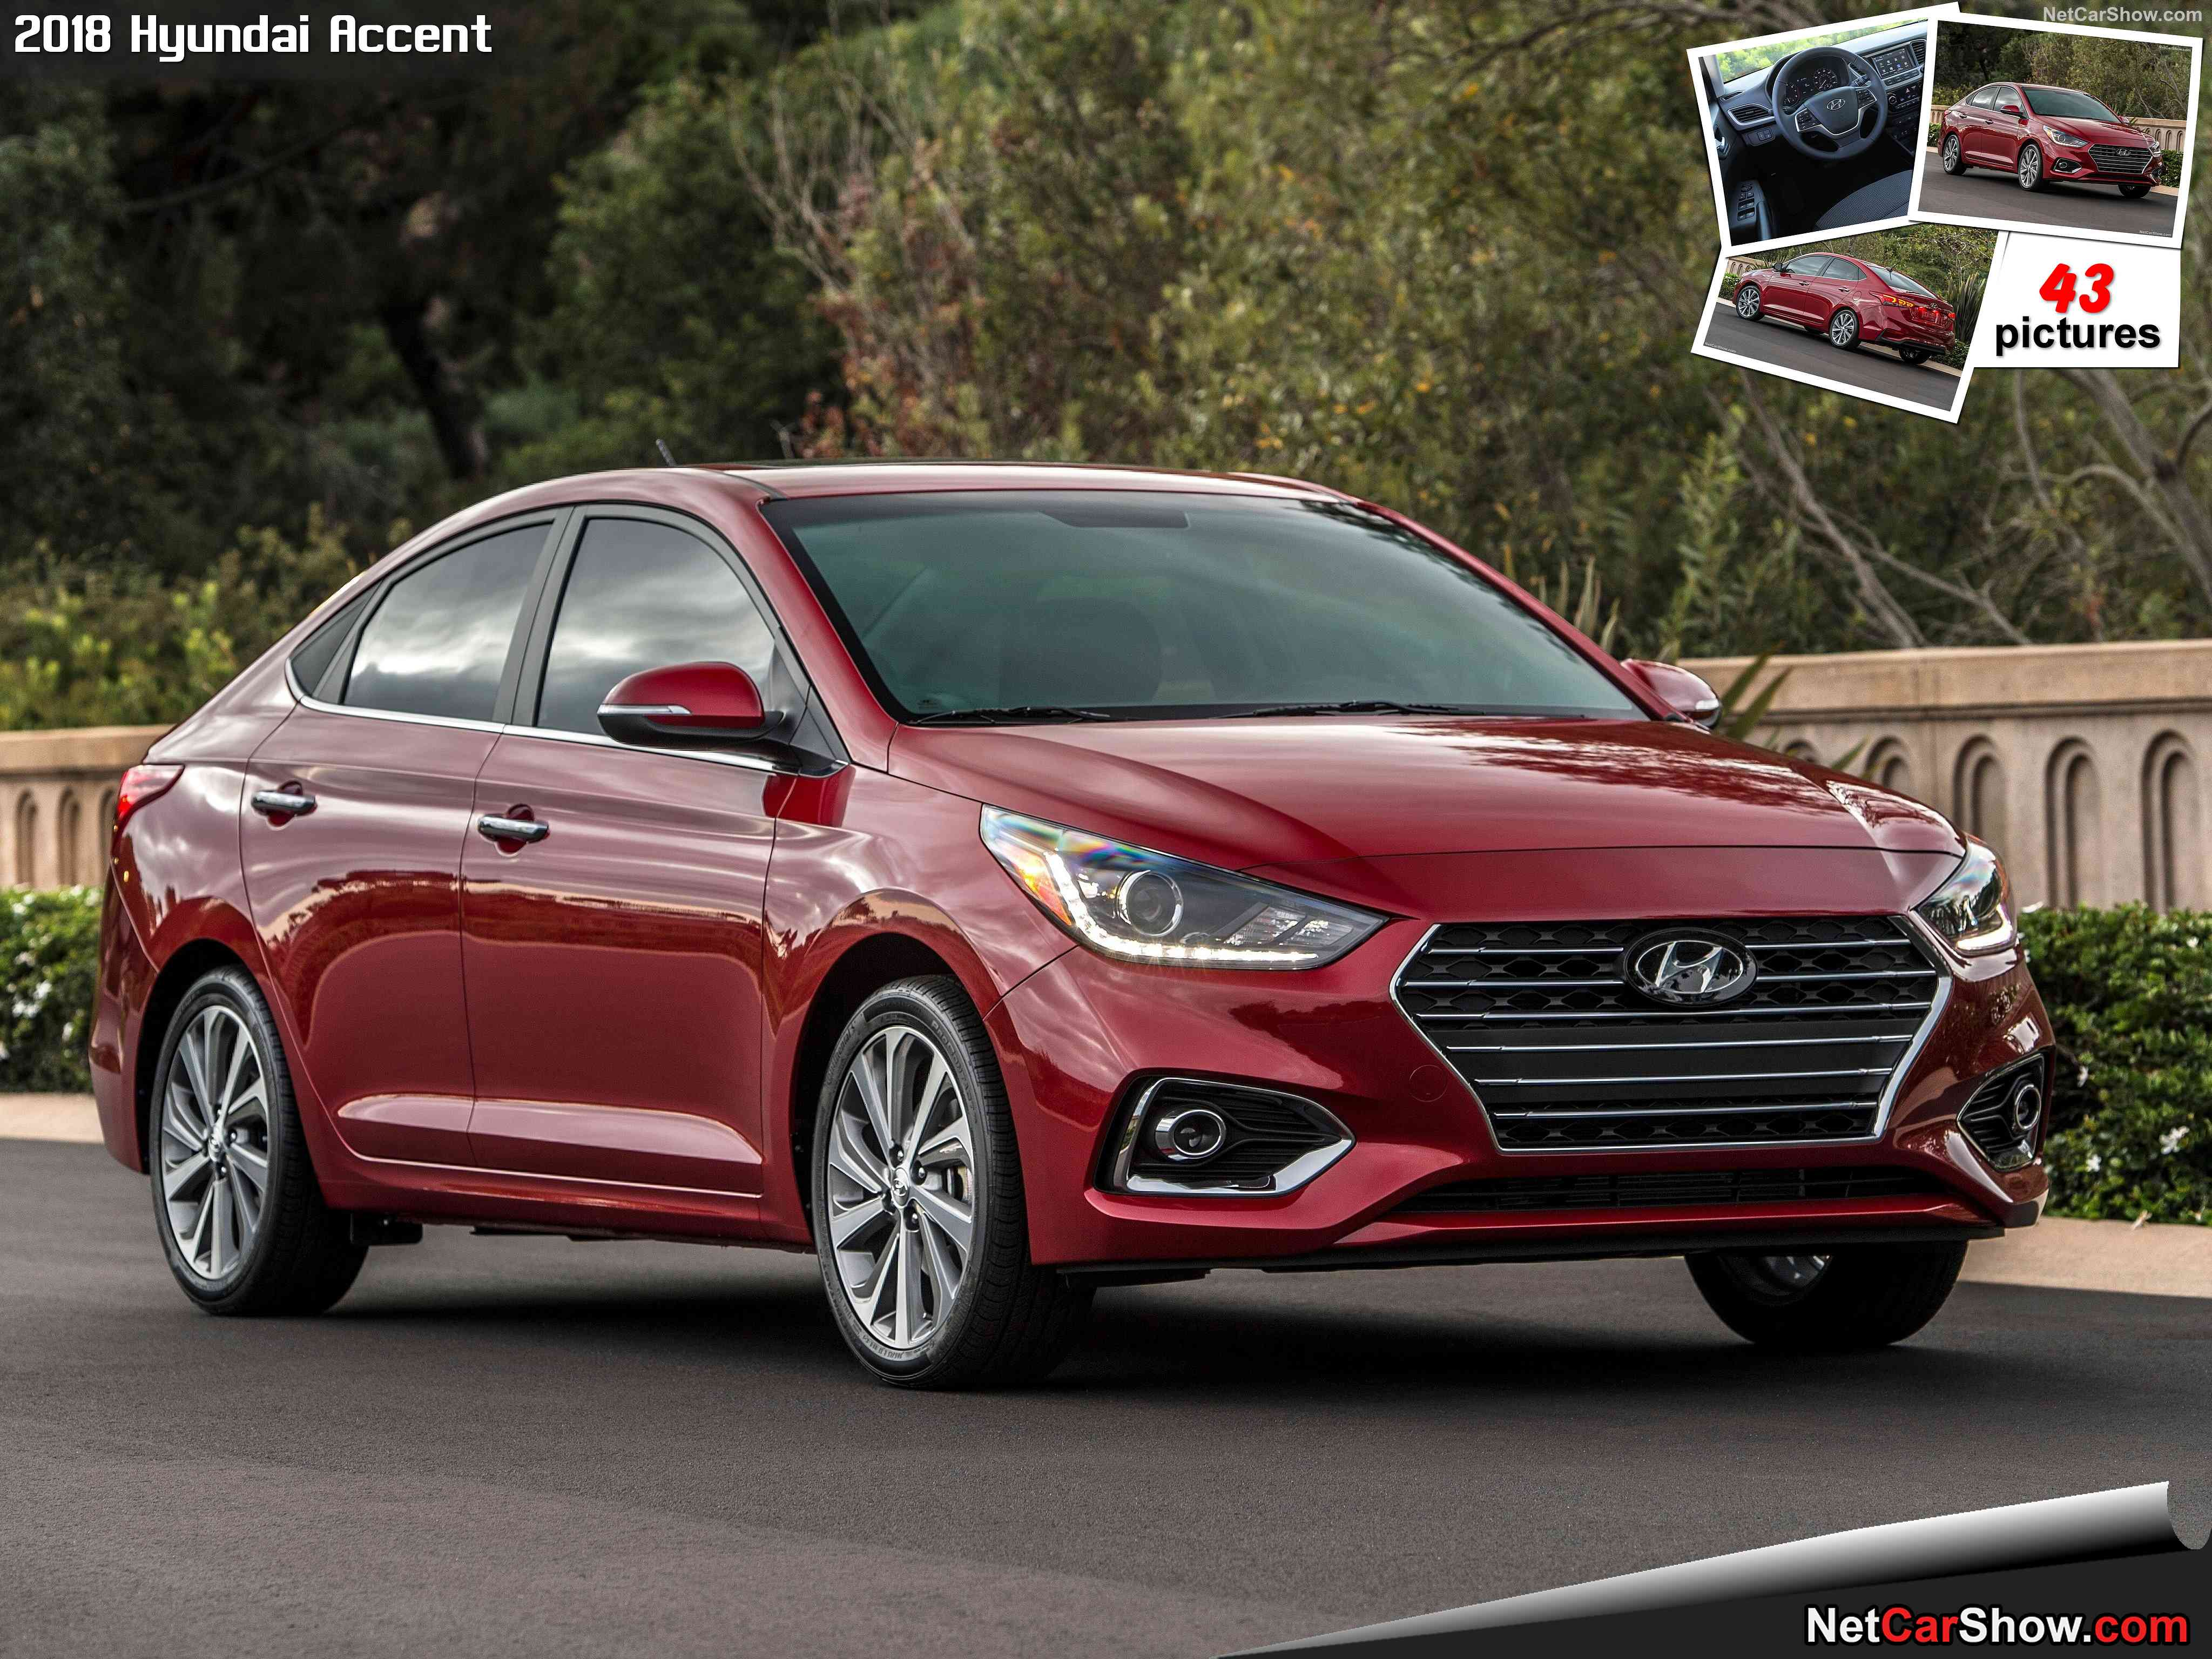accent: (113, 416, 2085, 1427)
